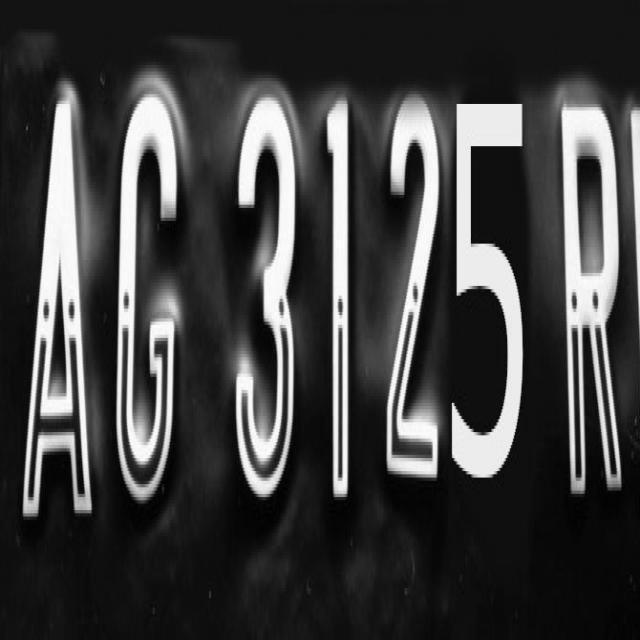1: (328, 78, 370, 504)
2: (383, 90, 441, 492)
3: (234, 93, 298, 501)
5: (450, 86, 532, 488)
A: (17, 70, 102, 519)
G: (104, 76, 195, 514)
R: (550, 83, 620, 509)
